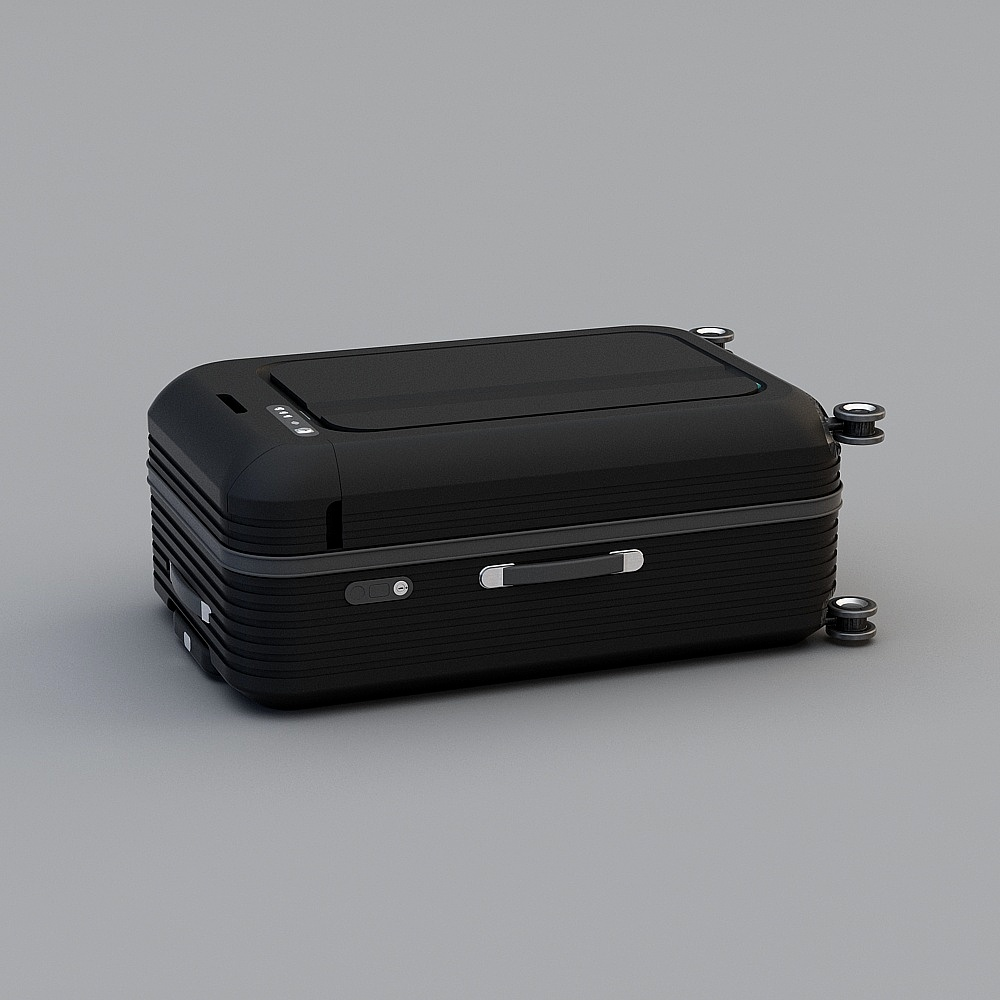box: (146, 326, 840, 711)
handle: (476, 546, 645, 590), (169, 562, 211, 627)
wheel: (826, 596, 879, 645), (832, 401, 886, 445)
